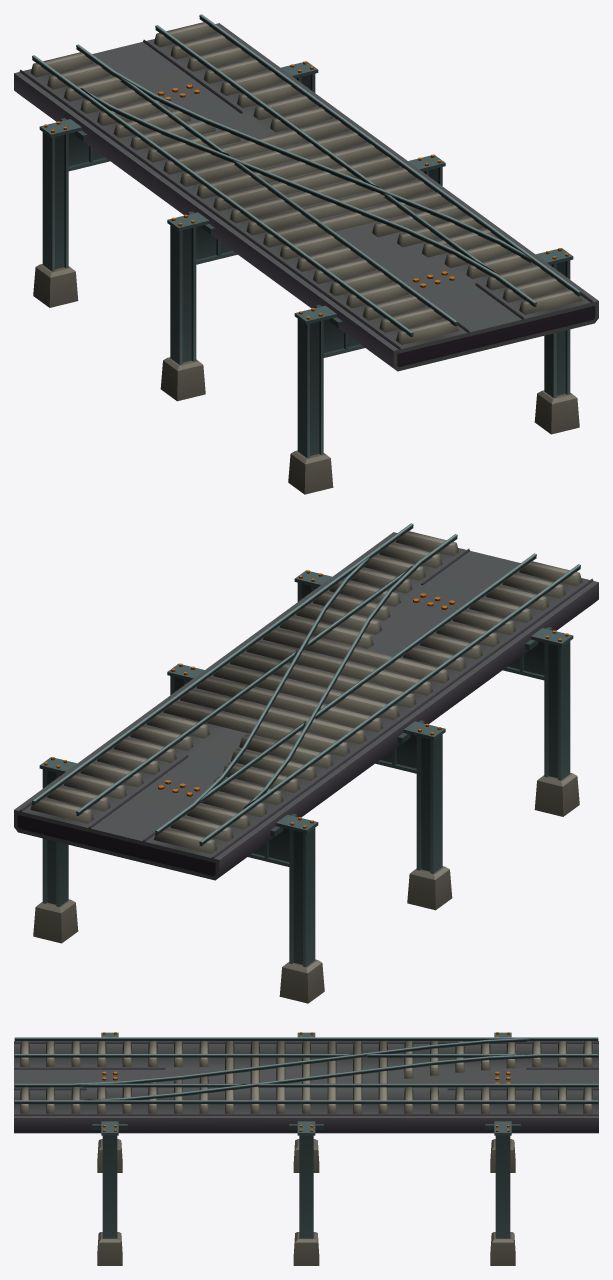
File: Train_Tracks_Suspended_1C.fbx
The picture shows the model from 3 angles, top to bottom: view 1: azimuth 30°, elevation 25°; view 2: azimuth 150°, elevation 25°; view 3: azimuth 270°, elevation 25°; orthographic projection. The views are drawn at different scales.
Visible parts, largest first — view 1: Train_Tracks_Suspended_1C; view 2: Train_Tracks_Suspended_1C; view 3: Train_Tracks_Suspended_1C.
Boxes of the visible parts, x1=… form: Train_Tracks_Suspended_1C: x1=14, y1=14, x2=598, y2=494; Train_Tracks_Suspended_1C: x1=14, y1=523, x2=598, y2=1003; Train_Tracks_Suspended_1C: x1=14, y1=1032, x2=598, y2=1265.
Bounding box in the file's own units: 13.39 × 8.75 × 32.
